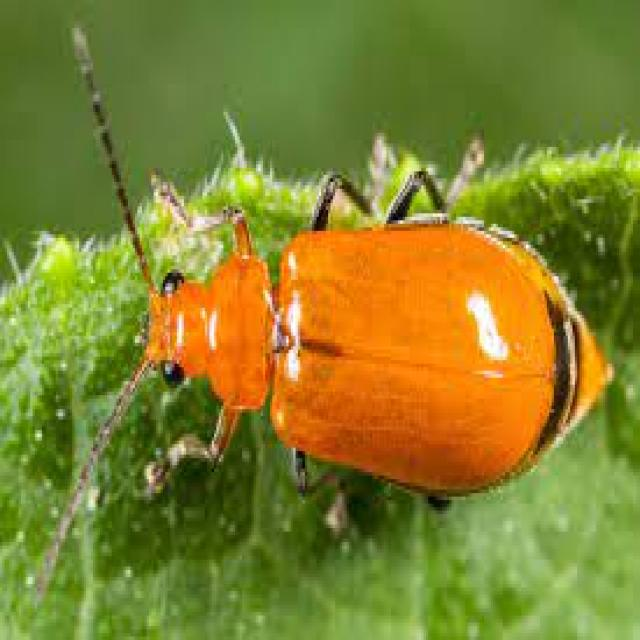Pumpkin Beetle: (34, 8, 627, 591)
